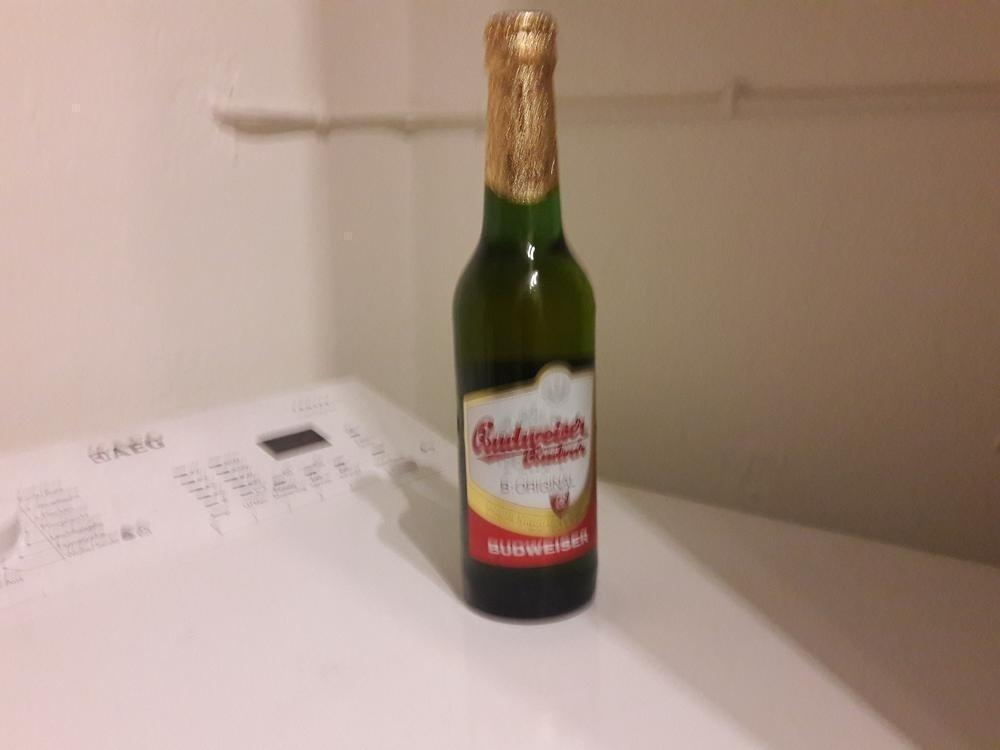bottle-glass: (449, 8, 600, 627)
